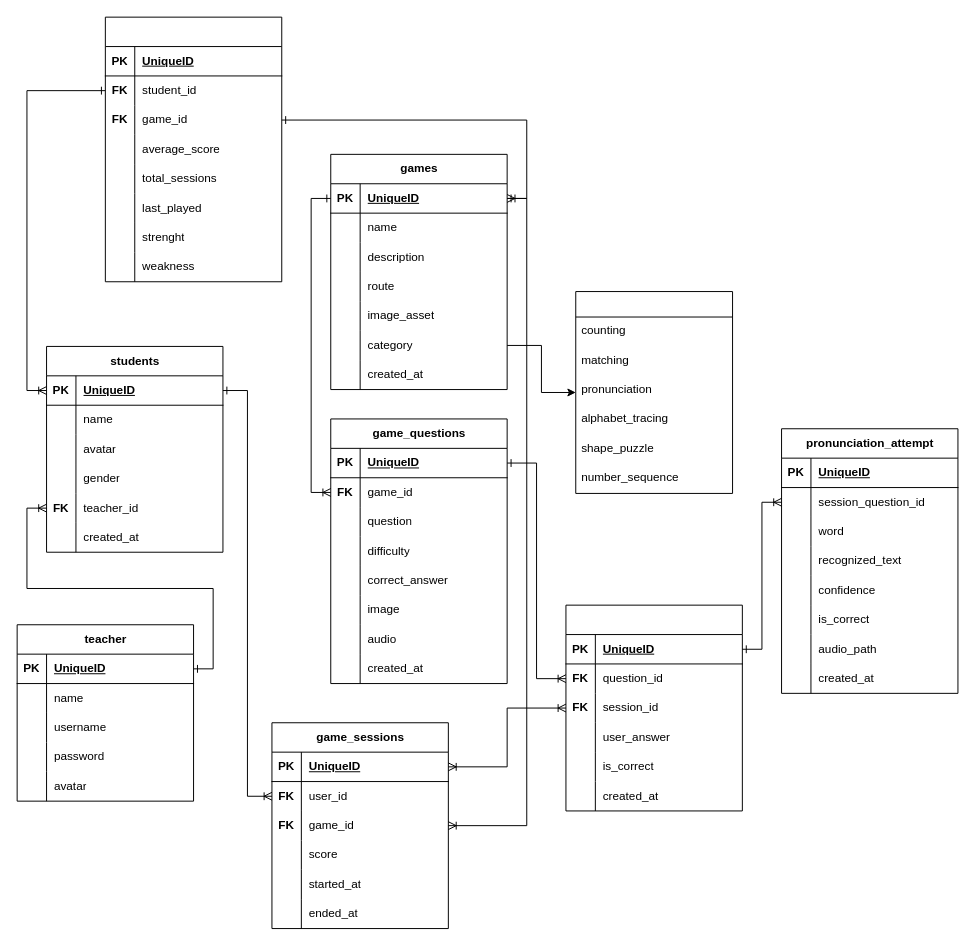
Image size: 975x946. Some labels were removed from this diagram. The box of each missing label's shape, as (x1, y1, x2, y2) in pixels:
game_type: (575, 291, 733, 493)
session_questions: (565, 604, 742, 811)
student_insights: (104, 16, 282, 282)
